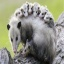opossum: (7, 5, 56, 60)
